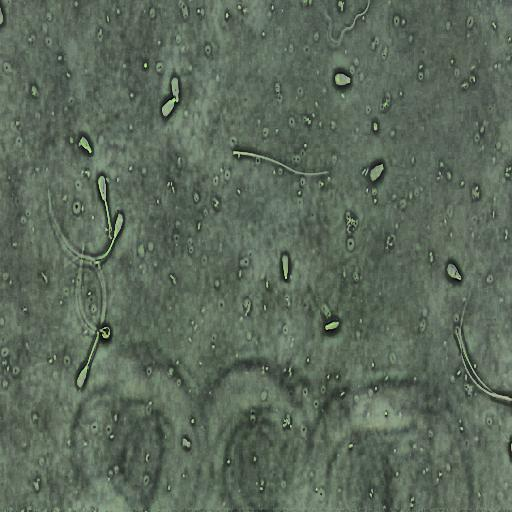coiled-tail: (104, 199, 113, 239)
loose-head: (368, 161, 386, 183), (446, 260, 463, 283), (333, 69, 353, 88), (161, 96, 177, 119), (280, 250, 290, 283), (79, 133, 93, 156), (170, 75, 180, 104), (323, 317, 341, 333)
loose-tail: (458, 287, 512, 403), (231, 148, 331, 178)
normal: (45, 183, 129, 267), (61, 253, 111, 393), (96, 168, 114, 243)
